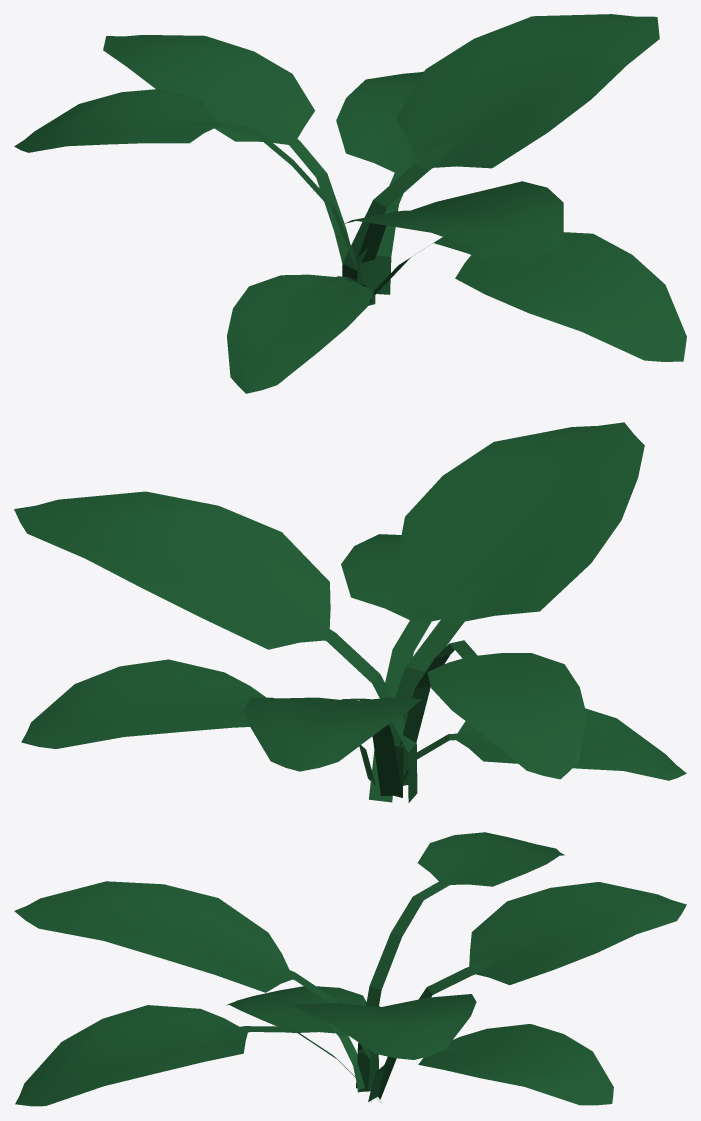
File: SM_Plant02.fbx
3 views of the same model, one above another, from view 1: azimuth 30°, elevation 25°; view 2: azimuth 150°, elevation 25°; view 3: azimuth 270°, elevation 25° (orthographic). The views are drawn at different scales.
Visible parts, largest first — view 1: Plane.023; view 2: Plane.023; view 3: Plane.023.
Part boxes in pixels (x1,y1,x2,y2): Plane.023: (14,14,686,393); Plane.023: (14,422,686,802); Plane.023: (14,832,686,1106).
Size of the model in its own units: 40.08 by 13.66 by 44.52.
